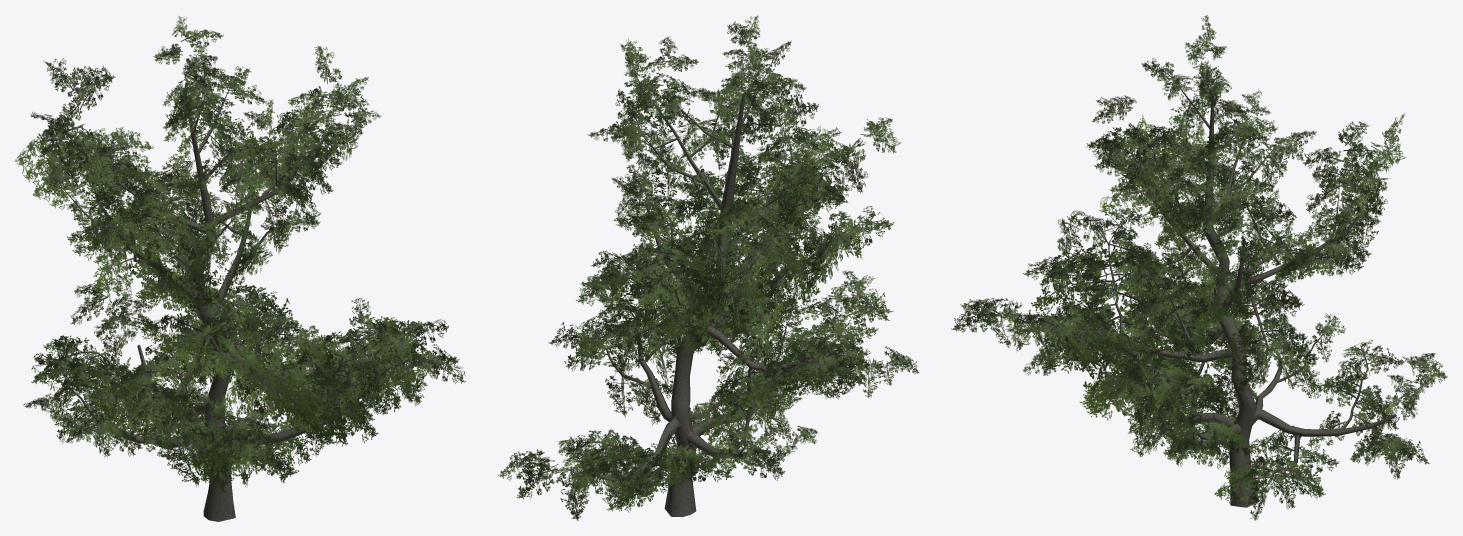
File: oak_large_4.glb
The picture shows the model from 3 angles, left to right: view 1: azimuth 30°, elevation 25°; view 2: azimuth 150°, elevation 25°; view 3: azimuth 270°, elevation 25°; orthographic projection. The views are drawn at different scales.
Visible parts, largest first — view 1: Large_oak_tree_004_LOD1_Cluster_Mat_0, Large_oak_tree_004_LOD1_Bark_Mat_0; view 2: Large_oak_tree_004_LOD1_Cluster_Mat_0, Large_oak_tree_004_LOD1_Bark_Mat_0; view 3: Large_oak_tree_004_LOD1_Cluster_Mat_0, Large_oak_tree_004_LOD1_Bark_Mat_0.
Part boxes in pixels (x1,y1,x2,y2): Large_oak_tree_004_LOD1_Cluster_Mat_0: (15, 16, 465, 492); Large_oak_tree_004_LOD1_Bark_Mat_0: (62, 90, 400, 521); Large_oak_tree_004_LOD1_Cluster_Mat_0: (498, 15, 919, 520); Large_oak_tree_004_LOD1_Bark_Mat_0: (591, 66, 838, 516); Large_oak_tree_004_LOD1_Cluster_Mat_0: (951, 15, 1447, 520); Large_oak_tree_004_LOD1_Bark_Mat_0: (1054, 78, 1396, 507).
Bounding box in the file's own units: 17.61 × 24.86 × 24.41.
Materials: 2 (2 with a texture image).
